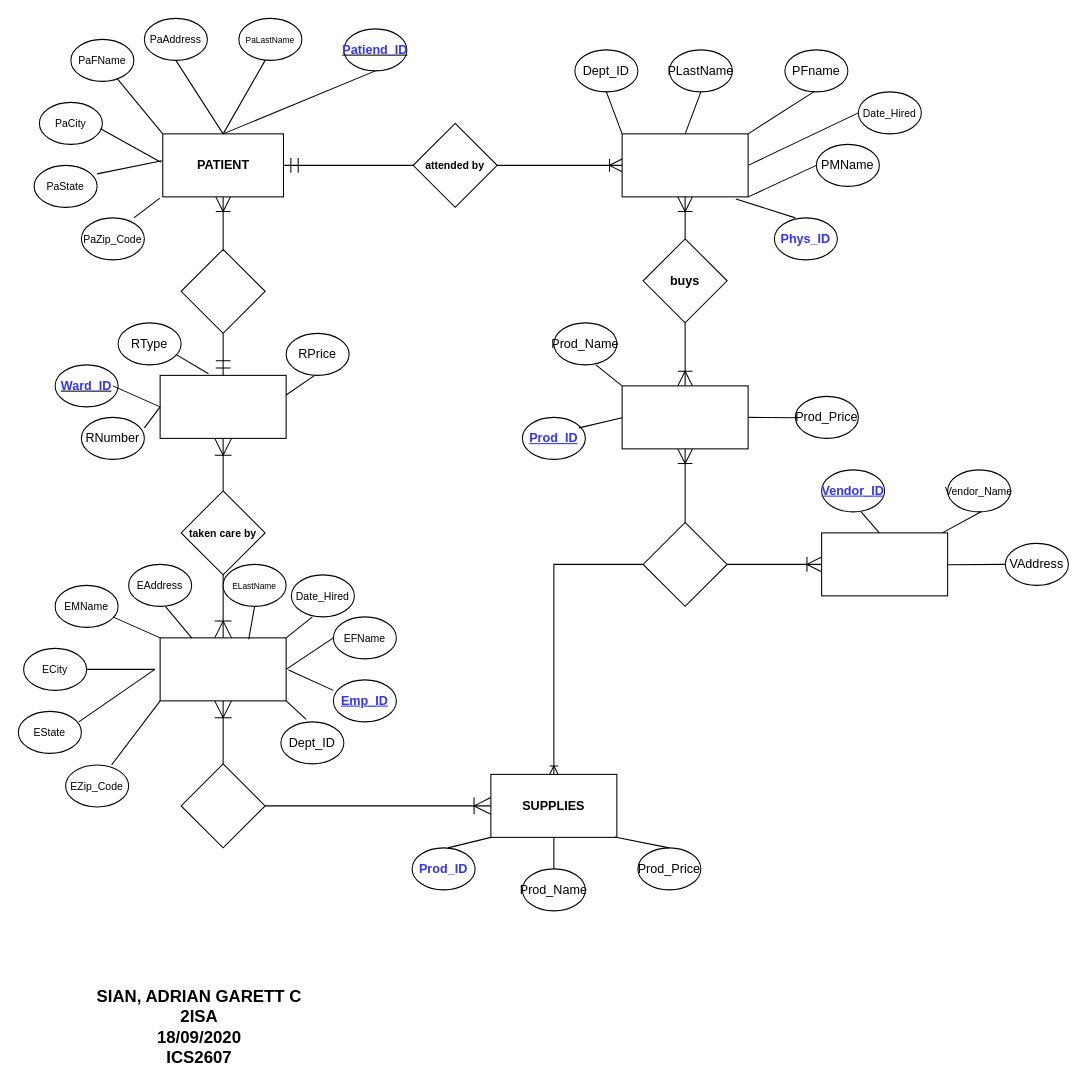
Image size: 1087x1085. Some labels were removed from this diagram. The centre of each missing label's shape, as x and y in pixels:
designated to: point (222, 290)
MEDICAL SUPPLIES: point (684, 417)
PHYSICIAN: point (684, 165)
purchase: point (222, 805)
sold by: point (684, 563)
STAFF: point (222, 669)
VENDOR: point (884, 564)
WARD: point (222, 406)
